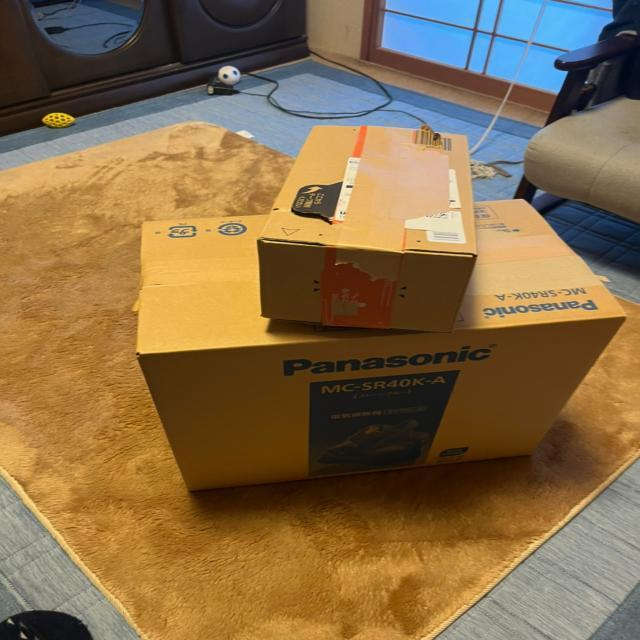box: (120, 192, 636, 494), (248, 117, 486, 339)
